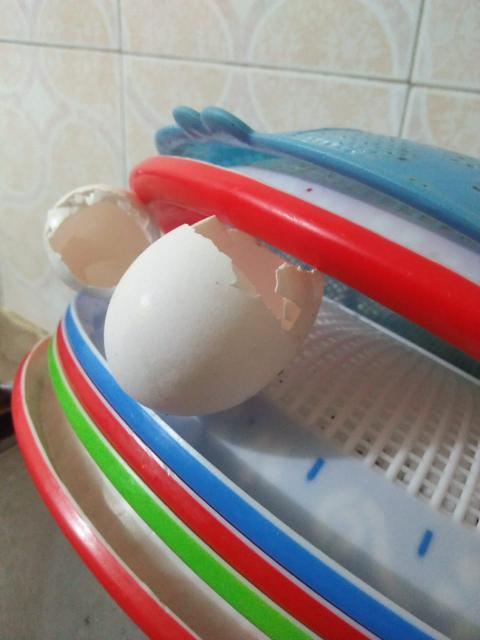Roto: (104, 211, 324, 416), (43, 184, 162, 296)
